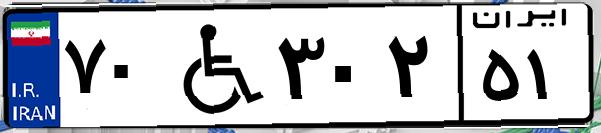0: (330, 28, 385, 110), (110, 28, 158, 98)
1: (525, 38, 570, 115)
2: (385, 28, 445, 110)
3: (270, 28, 330, 110)
5: (475, 38, 525, 113)
7: (57, 26, 110, 100)
ژ (معلولین و جانبازان): (158, 12, 270, 120)
